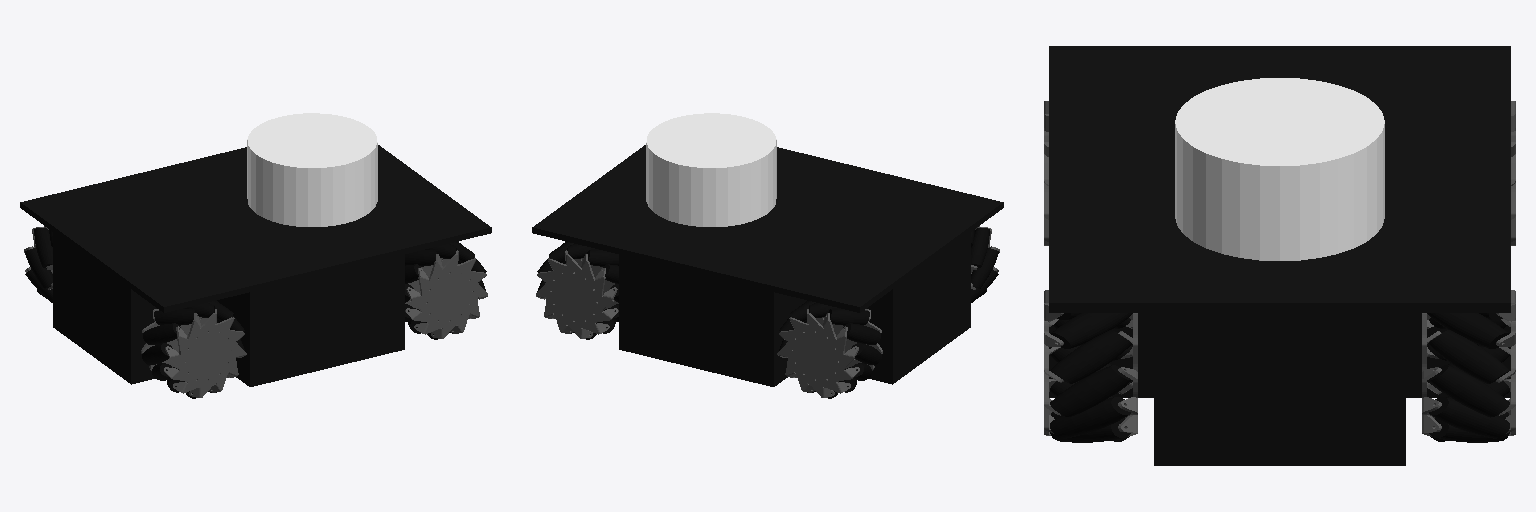
URDF robot description (rover):
<?xml version="1.0" ?>
<!-- =================================================================================== -->
<!-- |    This document was autogenerated by xacro from [local-path]/RosWs/allinone_ws/src/xrrover/xrrover_description/urdf/xrrover.urdf.xacro | -->
<!-- |    EDITING THIS FILE BY HAND IS NOT RECOMMENDED                                 | -->
<!-- =================================================================================== -->
<robot name="rover">
  <!-- in kg-->
  <!-- BASE FOOTPRINT -->
  <link name="base_footprint">
    <visual>
      <origin rpy="0 0 0" xyz="0 0 0"/>
      <geometry>
        <box size="0.001 0.001 0.001"/>
      </geometry>
    </visual>
  </link>
  <joint name="rover_base_footprint_joint" type="fixed">
    <origin rpy="0 0 0" xyz="0 0 0.0441"/>
    <!-- 0.0441 = 0.0762/2 + 0.006(6mm raise the base to allow room for the wheels to move down) -->
    <parent link="base_footprint"/>
    <child link="base_link"/>
  </joint>
  <!-- BASE_LINK -->
  <!-- consists of three link and two fixed joint -->
  <link name="base_link">
    <inertial>
      <mass value="125.0"/>
      <origin xyz="0 0 0"/>
      <inertia ixx="1.391" ixy="0.004" ixz="0.0" iyy="6.853" iyz="0.0" izz="6.125"/>
    </inertial>
    <visual>
      <origin rpy="0 0 0" xyz="0 0 0"/>
      <geometry>
        <box size="0.1375 0.22 0.085"/>
        <!-- base's x(0.29) - two wheel radius(0.0762*2) = 0.1376 => 0.1375 -->
      </geometry>
      <material name="darkgrey">
        <color rgba="0.1 0.1 0.1 1"/>
      </material>
    </visual>
    <collision>
      <!-- base link's collision only define here -->
      <origin rpy="0 0 0 " xyz="0 0 0"/>
      <geometry>
        <box size="0.29 0.22 0.085"/>
      </geometry>
    </collision>
  </link>
  <joint name="base_link_attach_joint" type="fixed">
    <parent link="base_link"/>
    <child link="base_link_attach"/>
  </joint>
  <link name="base_link_attach">
    <visual>
      <origin rpy="0 0 0" xyz="0 0 0"/>
      <geometry>
        <box size="0.29 0.12 0.085"/>
      </geometry>
      <material name="darkgrey">
        <color rgba="0.1 0.1 0.1 1"/>
      </material>
    </visual>
  </link>
  <joint name="base_link_attach_joint2" type="fixed">
    <parent link="base_link"/>
    <child link="base_link_attach2"/>
  </joint>
  <link name="base_link_attach2">
    <visual>
      <origin rpy="0 0 0" xyz="0 0 0.0406"/>
      <geometry>
        <box size="0.29 0.22 0.005"/>
      </geometry>
      <material name="darkgrey">
        <color rgba="0.1 0.1 0.1 1"/>
      </material>
    </visual>
  </link>
  <joint name="rover_front_right_wheel_joint" type="continuous">
    <parent link="base_link"/>
    <child link="rover_front_right_wheel_link"/>
    <origin rpy="0 0 0" xyz="0.1069 -0.09 -0.0061"/>
    <axis rpy="0 0 0" xyz="0 1 0"/>
    <limit effort="10" velocity="10"/>
    <joint_properties damping="0.0" friction="0.0"/>
  </joint>
  <link name="rover_front_right_wheel_link">
    <visual>
      <origin rpy="0 0 0" xyz="0 0 0"/>
      <geometry>
        <mesh filename="package://xrrover_description/meshes/wheels/rover_wheel_2.dae"/>
      </geometry>
    </visual>
    <collision>
      <origin rpy="1.5707963267948966 0 0" xyz="0 0 0"/>
      <geometry>
        <cylinder length="0.04" radius="0.0381"/>
      </geometry>
    </collision>
    <inertial>
      <mass value="6.5"/>
      <origin xyz="0 0 0"/>
      <inertia ixx="0.003225532916666667" ixy="0" ixz="0" iyy="0.0047177325" iyz="0" izz="0.003225532916666667"/>
    </inertial>
  </link>
  <!-- Transmission is important to link the joints and the controller (see summit_xl_control/config/summit_xl_control.yaml)-->
  <transmission name="rover_front_right_wheel_joint_trans">
    <type>transmission_interface/SimpleTransmission</type>
    <joint name="rover_front_right_wheel_joint">
      <hardwareInterface>hardware_interface/VelocityJointInterface</hardwareInterface>
    </joint>
    <actuator name="rover_front_right_wheel_joint_motor">
      <mechanicalReduction>1</mechanicalReduction>
    </actuator>
  </transmission>
  <gazebo reference="rover_front_right_wheel_link">
    <mu1 value="1.0"/>
    <mu2 value="1.0"/>
    <kp value="10000000.0"/>
    <kd value="1.0"/>
    <fdir1 value="1 0 0"/>
    <turnGravityOff>false</turnGravityOff>
  </gazebo>
  <joint name="rover_front_left_wheel_joint" type="continuous">
    <parent link="base_link"/>
    <child link="rover_front_left_wheel_link"/>
    <origin rpy="0 0 0" xyz="0.1069 0.09 -0.0061"/>
    <axis rpy="0 0 0" xyz="0 1 0"/>
    <limit effort="10" velocity="10"/>
    <joint_properties damping="0.0" friction="0.0"/>
  </joint>
  <link name="rover_front_left_wheel_link">
    <visual>
      <origin rpy="0 0 0" xyz="0 0 0"/>
      <geometry>
        <mesh filename="package://xrrover_description/meshes/wheels/rover_wheel_1.dae"/>
      </geometry>
    </visual>
    <collision>
      <origin rpy="1.5707963267948966 0 0" xyz="0 0 0"/>
      <geometry>
        <cylinder length="0.04" radius="0.0381"/>
      </geometry>
    </collision>
    <inertial>
      <mass value="6.5"/>
      <origin xyz="0 0 0"/>
      <inertia ixx="0.003225532916666667" ixy="0" ixz="0" iyy="0.0047177325" iyz="0" izz="0.003225532916666667"/>
    </inertial>
  </link>
  <!-- Transmission is important to link the joints and the controller (see summit_xl_control/config/summit_xl_control.yaml)-->
  <transmission name="rover_front_left_wheel_joint_trans">
    <type>transmission_interface/SimpleTransmission</type>
    <joint name="rover_front_left_wheel_joint">
      <hardwareInterface>hardware_interface/VelocityJointInterface</hardwareInterface>
    </joint>
    <actuator name="rover_front_left_wheel_joint_motor">
      <mechanicalReduction>1</mechanicalReduction>
    </actuator>
  </transmission>
  <gazebo reference="rover_front_left_wheel_link">
    <mu1 value="1.0"/>
    <mu2 value="1.0"/>
    <kp value="10000000.0"/>
    <kd value="1.0"/>
    <fdir1 value="1 0 0"/>
    <turnGravityOff>false</turnGravityOff>
  </gazebo>
  <joint name="rover_rear_left_wheel_joint" type="continuous">
    <parent link="base_link"/>
    <child link="rover_rear_left_wheel_link"/>
    <origin rpy="0 0 0" xyz="-0.1069 0.09 -0.0061"/>
    <axis rpy="0 0 0" xyz="0 1 0"/>
    <limit effort="10" velocity="10"/>
    <joint_properties damping="0.0" friction="0.0"/>
  </joint>
  <link name="rover_rear_left_wheel_link">
    <visual>
      <origin rpy="0 0 0" xyz="0 0 0"/>
      <geometry>
        <mesh filename="package://xrrover_description/meshes/wheels/rover_wheel_1.dae"/>
      </geometry>
    </visual>
    <collision>
      <origin rpy="1.5707963267948966 0 0" xyz="0 0 0"/>
      <geometry>
        <cylinder length="0.04" radius="0.0381"/>
      </geometry>
    </collision>
    <inertial>
      <mass value="6.5"/>
      <origin xyz="0 0 0"/>
      <inertia ixx="0.003225532916666667" ixy="0" ixz="0" iyy="0.0047177325" iyz="0" izz="0.003225532916666667"/>
    </inertial>
  </link>
  <!-- Transmission is important to link the joints and the controller (see summit_xl_control/config/summit_xl_control.yaml)-->
  <transmission name="rover_rear_left_wheel_joint_trans">
    <type>transmission_interface/SimpleTransmission</type>
    <joint name="rover_rear_left_wheel_joint">
      <hardwareInterface>hardware_interface/VelocityJointInterface</hardwareInterface>
    </joint>
    <actuator name="rover_rear_left_wheel_joint_motor">
      <mechanicalReduction>1</mechanicalReduction>
    </actuator>
  </transmission>
  <gazebo reference="rover_rear_left_wheel_link">
    <mu1 value="1.0"/>
    <mu2 value="1.0"/>
    <kp value="10000000.0"/>
    <kd value="1.0"/>
    <fdir1 value="1 0 0"/>
    <turnGravityOff>false</turnGravityOff>
  </gazebo>
  <joint name="rover_rear_right_wheel_joint" type="continuous">
    <parent link="base_link"/>
    <child link="rover_rear_right_wheel_link"/>
    <origin rpy="0 0 0" xyz="-0.1069 -0.09 -0.0061"/>
    <axis rpy="0 0 0" xyz="0 1 0"/>
    <limit effort="10" velocity="10"/>
    <joint_properties damping="0.0" friction="0.0"/>
  </joint>
  <link name="rover_rear_right_wheel_link">
    <visual>
      <origin rpy="0 0 0" xyz="0 0 0"/>
      <geometry>
        <mesh filename="package://xrrover_description/meshes/wheels/rover_wheel_2.dae"/>
      </geometry>
    </visual>
    <collision>
      <origin rpy="1.5707963267948966 0 0" xyz="0 0 0"/>
      <geometry>
        <cylinder length="0.04" radius="0.0381"/>
      </geometry>
    </collision>
    <inertial>
      <mass value="6.5"/>
      <origin xyz="0 0 0"/>
      <inertia ixx="0.003225532916666667" ixy="0" ixz="0" iyy="0.0047177325" iyz="0" izz="0.003225532916666667"/>
    </inertial>
  </link>
  <!-- Transmission is important to link the joints and the controller (see summit_xl_control/config/summit_xl_control.yaml)-->
  <transmission name="rover_rear_right_wheel_joint_trans">
    <type>transmission_interface/SimpleTransmission</type>
    <joint name="rover_rear_right_wheel_joint">
      <hardwareInterface>hardware_interface/VelocityJointInterface</hardwareInterface>
    </joint>
    <actuator name="rover_rear_right_wheel_joint_motor">
      <mechanicalReduction>1</mechanicalReduction>
    </actuator>
  </transmission>
  <gazebo reference="rover_rear_right_wheel_link">
    <mu1 value="1.0"/>
    <mu2 value="1.0"/>
    <kp value="10000000.0"/>
    <kd value="1.0"/>
    <fdir1 value="1 0 0"/>
    <turnGravityOff>false</turnGravityOff>
  </gazebo>
  <joint name="joint_sensor_laser" type="fixed">
    <origin rpy="0 0 0" xyz="0.05 0 0.0691"/>
    <!-- 0.0691 = 0.0381 + 0.05/2 + 0.006 -->
    <!-- 0.0691 = 0.0381 + cylinder_length/2 + base_link_to_footprint's_0.006 -->
    <parent link="base_link"/>
    <child link="base_scan"/>
  </joint>
  <link name="base_scan">
    <inertial>
      <origin rpy="0 0 0" xyz="0 0 0"/>
      <mass value="1"/>
      <inertia ixx="0.0014583333333333334" ixy="0" ixz="0" iyy="0.0014583333333333334" iyz="0" izz="0.0012500000000000002"/>
    </inertial>
    <visual>
      <origin rpy="0 0 0" xyz="0 0 0"/>
      <geometry>
        <cylinder length="0.05" radius="0.05"/>
      </geometry>
      <material name="white">
        <color rgba="1.0 1.0 1.0 1.0"/>
      </material>
    </visual>
    <collision>
      <origin rpy="0 0 0" xyz="0 0 0"/>
      <geometry>
        <cylinder length="0.05" radius="0.05"/>
      </geometry>
    </collision>
  </link>
  <gazebo>
    <plugin filename="libgazebo_ros_planar_move.so" name="mecanum_controller">
      <commandTopic>cmd_vel</commandTopic>
      <odometryTopic>odom</odometryTopic>
      <odometryFrame>odom</odometryFrame>
      <odometryRate>20.0</odometryRate>
      <robotBaseFrame>base_footprint</robotBaseFrame>
    </plugin>
  </gazebo>
  <gazebo reference="base_scan">
    <material>Gazebo/Red</material>
  </gazebo>
  <gazebo reference="base_scan">
    <sensor name="head_hokuyo_sensor" type="ray">
      <pose>0 0 0 0 0 0</pose>
      <visualize>false</visualize>
      <update_rate>20</update_rate>
      <ray>
        <scan>
          <horizontal>
            <samples>720</samples>
            <resolution>1</resolution>
            <min_angle>-1.570796</min_angle>
            <max_angle>1.570796</max_angle>
          </horizontal>
        </scan>
        <range>
          <min>0.10</min>
          <max>2.0</max>
          <resolution>0.01</resolution>
        </range>
        <noise>
          <type>gaussian</type>
          <mean>0.0</mean>
          <stddev>0.01</stddev>
        </noise>
      </ray>
      <plugin filename="libgazebo_ros_laser.so" name="gazebo_ros_head_hokuyo_controller">
        <topicName>scan</topicName>
        <frameName>base_scan</frameName>
      </plugin>
    </sensor>
  </gazebo>
</robot>

--- Render facts (derived) ---
3 views of the same robot in one strip: view 1: azimuth 30°, elevation 25°; view 2: azimuth 150°, elevation 25°; view 3: azimuth 270°, elevation 25° (orthographic).
Robot: rover — 9 links, 8 joints (4 continuous, 4 fixed); root link base_footprint; default pose: every joint at zero.
Visible links, largest first — view 1: base_link_attach2, base_link, base_scan, base_link_attach, rover_rear_right_wheel_link, rover_front_right_wheel_link, rover_rear_left_wheel_link; view 2: base_link_attach2, base_link, base_scan, base_link_attach, rover_rear_left_wheel_link, rover_front_left_wheel_link, rover_rear_right_wheel_link; view 3: base_link_attach2, base_link_attach, base_scan, rover_front_right_wheel_link, rover_front_left_wheel_link, base_link, rover_rear_left_wheel_link, rover_rear_right_wheel_link.
Link boxes in pixels (x1,y1,x2,y2): base_link_attach2: [20, 145, 491, 312]; base_link: [217, 249, 404, 386]; base_scan: [247, 113, 377, 226]; base_link_attach: [53, 228, 458, 384]; rover_rear_right_wheel_link: [141, 300, 246, 398]; rover_front_right_wheel_link: [405, 242, 487, 339]; rover_rear_left_wheel_link: [24, 226, 52, 302]; base_link_attach2: [532, 145, 1003, 312]; base_link: [619, 249, 806, 386]; base_scan: [646, 113, 776, 226]; base_link_attach: [565, 227, 970, 384]; rover_rear_left_wheel_link: [777, 300, 882, 398]; rover_front_left_wheel_link: [536, 242, 618, 339]; rover_rear_right_wheel_link: [971, 226, 999, 302]; base_link_attach2: [1049, 46, 1510, 312]; base_link_attach: [1154, 304, 1405, 465]; base_scan: [1175, 78, 1384, 260]; rover_front_right_wheel_link: [1044, 290, 1137, 442]; rover_front_left_wheel_link: [1422, 290, 1515, 442]; base_link: [1049, 313, 1510, 397]; rover_rear_left_wheel_link: [1511, 101, 1515, 245]; rover_rear_right_wheel_link: [1044, 101, 1048, 245].
Size in the robot's own frame: 0.29 by 0.2245 by 0.1387 metres.
4 mesh visuals loaded from 2 distinct referenced files (2 Collada DAE).
